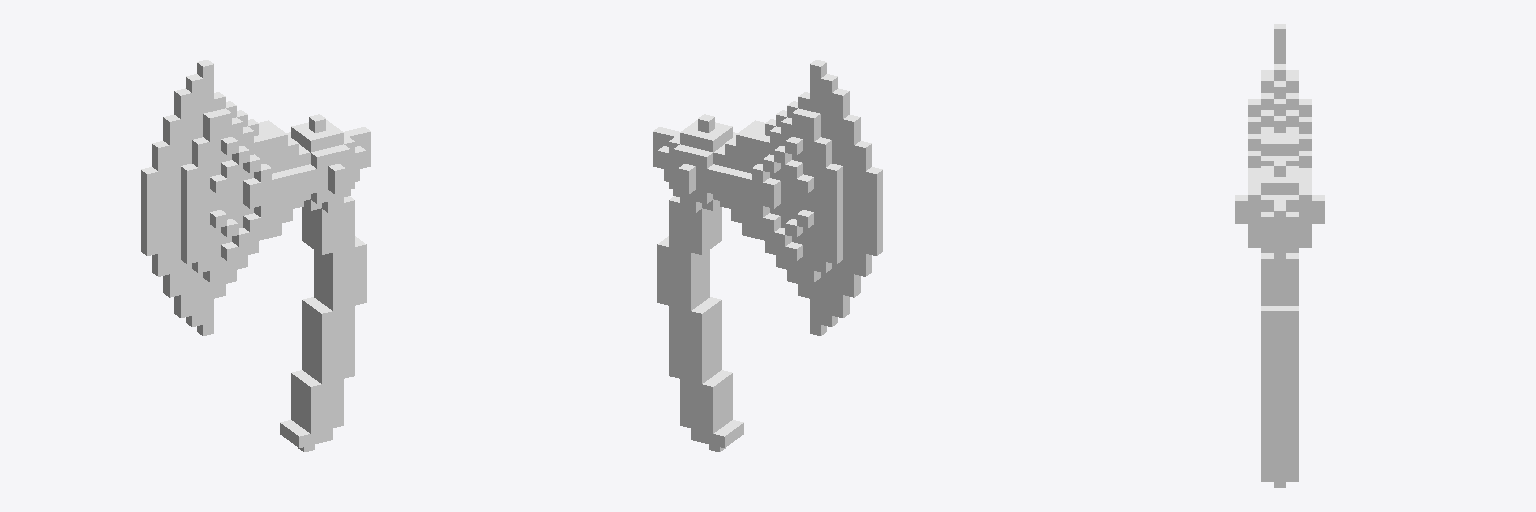
The model's file is Hache.obj.
3 views of the same model, side by side, from view 1: azimuth 30°, elevation 25°; view 2: azimuth 150°, elevation 25°; view 3: azimuth 270°, elevation 25° (orthographic).
Visible parts, largest first — view 1: Hache; view 2: Hache; view 3: Hache.
Part boxes in pixels (x1,y1,x2,y2): Hache: (141, 60, 370, 451); Hache: (653, 60, 882, 451); Hache: (1235, 24, 1324, 487).
Size of the model in its own units: 20 by 35 by 7.